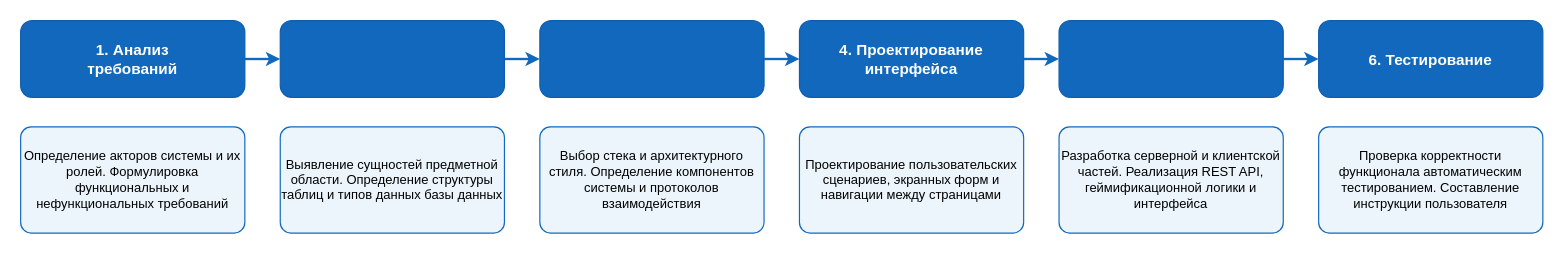
Some shapes in this 1563 by 254 pixel diagram are drawn without their labels. Each missing label, with the box of its shape:
2. Проектирование данных: (279, 19, 504, 97)
3. Проектирование архитектуры: (539, 19, 764, 97)
5. Реализация: (1058, 19, 1283, 97)
